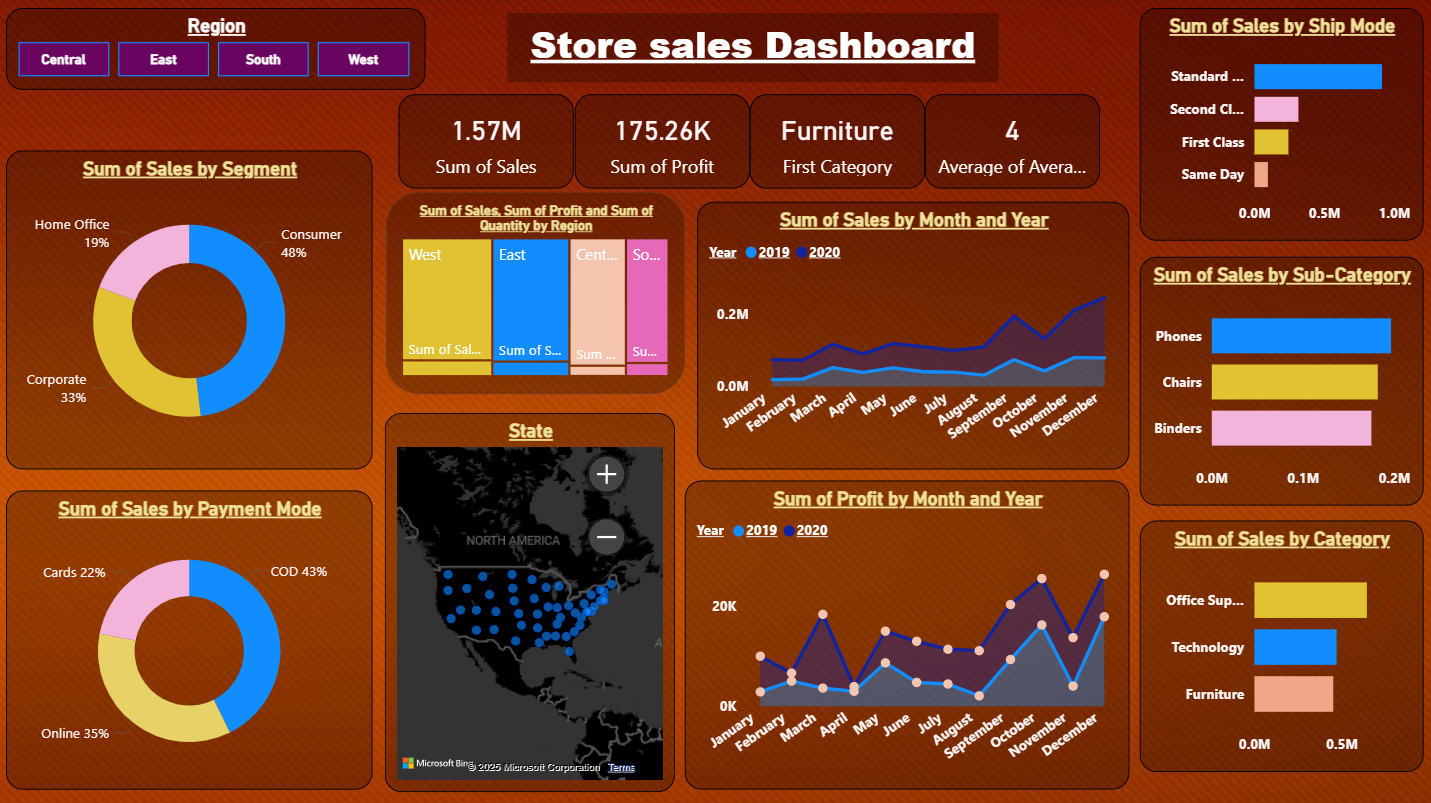

This screenshot's page, from the dashboard's own definition file:
{"tool":"powerbi","page":{"name":"Page 1","canvas":[1280,720],"ordinal":0},"visuals":[{"type":"clusteredBarChart","fields":{"Y":["Sum(Sheet1.Sales)"],"Category":["Sheet1.Category"]},"box":[1018.8,465,252.5,223.8],"z":0},{"type":"clusteredBarChart","fields":{"Y":["Sum(Sheet1.Sales)"],"Category":["Sheet1.Sub-Category"]},"box":[1018.8,230,252.5,221.2],"z":1000},{"type":"clusteredBarChart","fields":{"Y":["Sum(Sheet1.Sales)"],"Category":["Sheet1.Ship Mode"]},"box":[1018.8,8.8,252.5,207.5],"z":2000},{"type":"stackedAreaChart","fields":{"Y":["Sum(Sheet1.Sales)"],"Category":["Sheet1.Order Date.Variation.Date Hierarchy.Month","Sheet1.Order Date.Variation.Date Hierarchy.Day"],"Series":["Sheet1.Order Date.Variation.Date Hierarchy.Year"]},"box":[625,181.2,385,238.8],"z":3000},{"type":"stackedAreaChart","fields":{"Category":["Sheet1.Order Date.Variation.Date Hierarchy.Month","Sheet1.Order Date.Variation.Date Hierarchy.Day"],"Series":["Sheet1.Order Date.Variation.Date Hierarchy.Year"],"Y":["Sum(Sheet1.Profit)"]},"box":[613.8,430,396.2,275],"z":4000},{"type":"donutChart","fields":{"Category":["Sheet1.Segment"],"Y":["Sum(Sheet1.Sales)"]},"box":[8.8,136.2,326.2,283.8],"z":5000},{"type":"donutChart","fields":{"Category":["Sheet1.Payment Mode"],"Y":["Sum(Sheet1.Sales)"]},"box":[8.8,438.8,326.2,266.2],"z":6000},{"type":"advancedSlicerVisual","fields":{"Values":["Sheet1.Region"]},"box":[8.8,8.8,373.8,72.5],"z":7000},{"type":"map","fields":{"Category":["Sheet1.State"]},"box":[346.2,370,258.8,337.5],"z":8000},{"type":"card","fields":{"Values":["Sum(Sheet1.Sales)"]},"box":[358.8,86.2,156.2,83.8],"z":9000},{"type":"card","fields":{"Values":["Sum(Sheet1.Profit)"]},"box":[515,86.2,156.2,83.8],"z":10000},{"type":"card","fields":{"Values":["Min(Sheet1.Category)"]},"box":[671.2,86.2,156.2,83.8],"z":11000},{"type":"card","fields":{"Values":["Avg(Sheet1.Average delivery date)"]},"box":[827.5,86.2,156.2,83.8],"z":12000},{"type":"treemap","fields":{"Values":["Sum(Sheet1.Sales)","Sum(Sheet1.Profit)","Sum(Sheet1.Quantity)"],"Group":["Sheet1.Region"]},"box":[347.5,172.5,266.2,180],"z":13000},{"type":"textbox","box":[455,13.8,437.5,61.2],"z":14000}]}

Visuals, with their boxes in screenshot pixels (x1, y1, x2, y2), scaled from the page's 1280x720 canvas onto the 1431x803 screenshot:
clusteredBarChart - Sum(Sheet1.Sales) x Sheet1.Category: [left=1139, top=519, right=1421, bottom=768]
clusteredBarChart - Sum(Sheet1.Sales) x Sheet1.Sub-Category: [left=1139, top=257, right=1421, bottom=503]
clusteredBarChart - Sum(Sheet1.Sales) x Sheet1.Ship Mode: [left=1139, top=10, right=1421, bottom=241]
stackedAreaChart - Sum(Sheet1.Sales) x Sheet1.Order Date.Variation.Date Hierarchy.Month: [left=699, top=202, right=1129, bottom=468]
stackedAreaChart - Sheet1.Order Date.Variation.Date Hierarchy.Month x Sheet1.Order Date.Variation.Date Hierarchy.Day: [left=686, top=480, right=1129, bottom=786]
donutChart - Sheet1.Segment x Sum(Sheet1.Sales): [left=10, top=152, right=375, bottom=468]
donutChart - Sheet1.Payment Mode x Sum(Sheet1.Sales): [left=10, top=489, right=375, bottom=786]
advancedSlicerVisual - Sheet1.Region: [left=10, top=10, right=428, bottom=91]
map - Sheet1.State: [left=387, top=413, right=676, bottom=789]
card - Sum(Sheet1.Sales): [left=401, top=96, right=576, bottom=190]
card - Sum(Sheet1.Profit): [left=576, top=96, right=750, bottom=190]
card - Min(Sheet1.Category): [left=750, top=96, right=925, bottom=190]
card - Avg(Sheet1.Average delivery date): [left=925, top=96, right=1100, bottom=190]
treemap - Sum(Sheet1.Sales) x Sum(Sheet1.Profit): [left=388, top=192, right=686, bottom=393]
textbox: [left=509, top=15, right=998, bottom=84]
